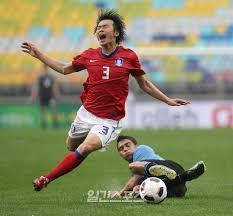Fall-Detected: (105, 128, 207, 198)
